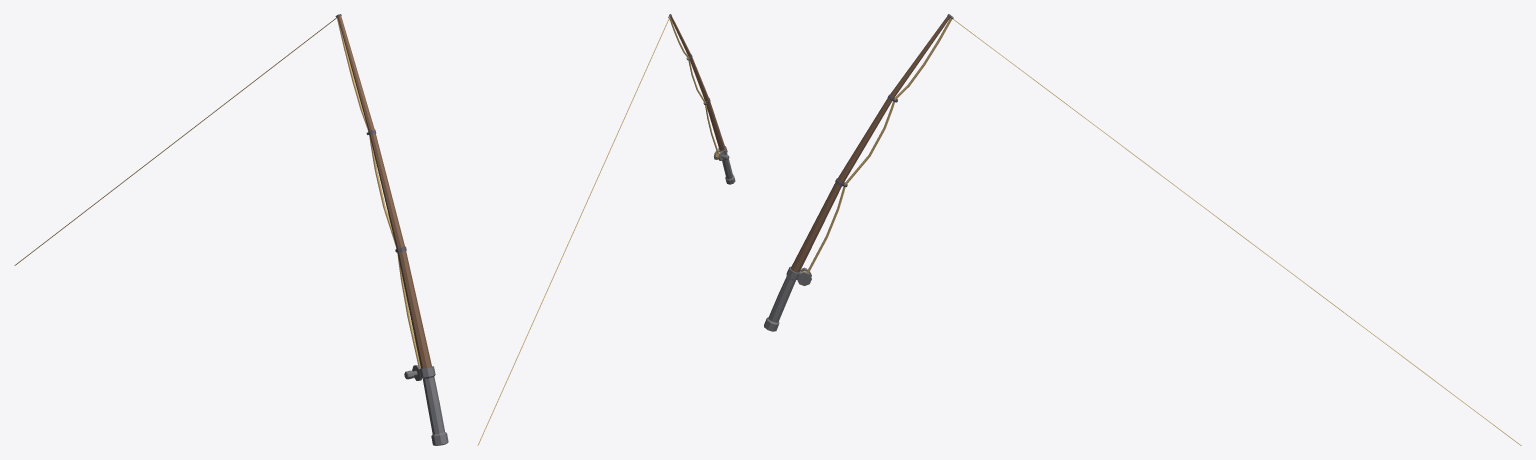
File: FishingRod_02.fbx
3 views of the same model, side by side, from view 1: azimuth 30°, elevation 25°; view 2: azimuth 150°, elevation 25°; view 3: azimuth 270°, elevation 25° (orthographic). The views are drawn at different scales.
Parts seen in each view (by area): view 1: FishingRod_02; view 2: FishingRod_02; view 3: FishingRod_02.
Boxes of the visible parts, x1=… form: FishingRod_02: x1=14, y1=14, x2=448, y2=445; FishingRod_02: x1=477, y1=14, x2=735, y2=445; FishingRod_02: x1=764, y1=14, x2=1521, y2=445.
Bounding box in the file's own units: 8.58 × 184 × 292.
